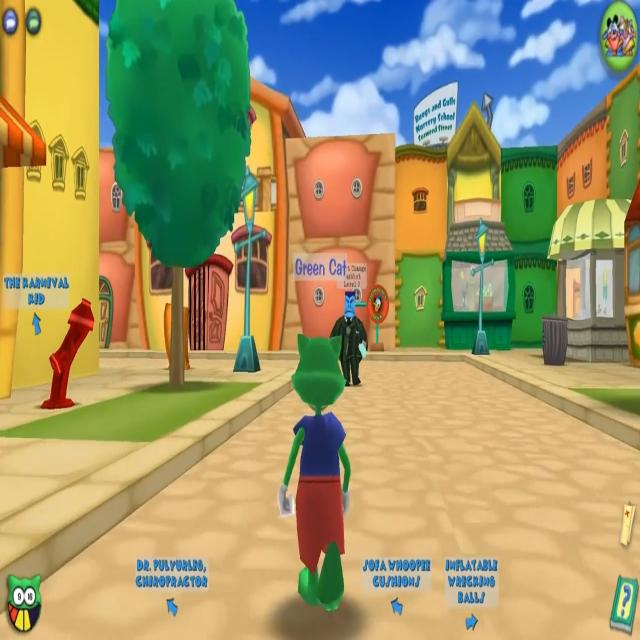shortchange: (327, 257, 375, 391)
